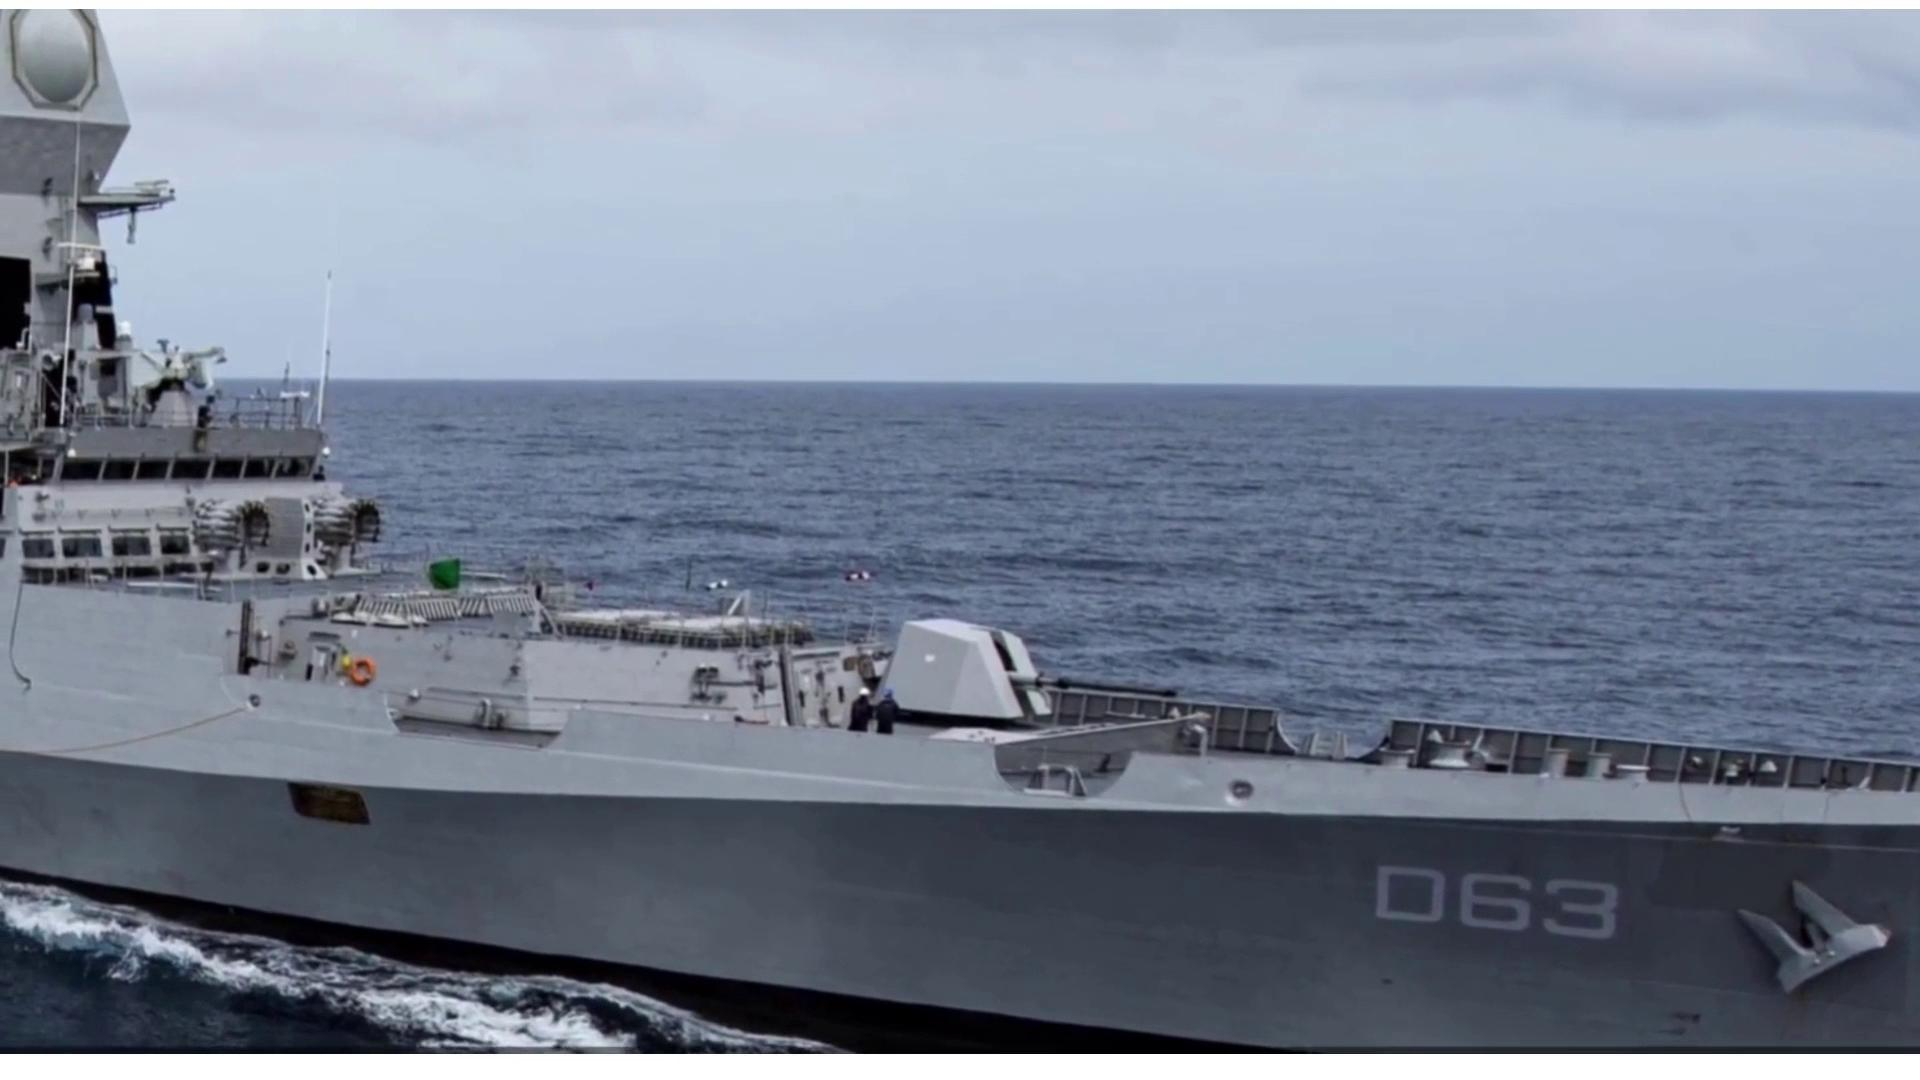OCR: (1364, 855, 1629, 957)
